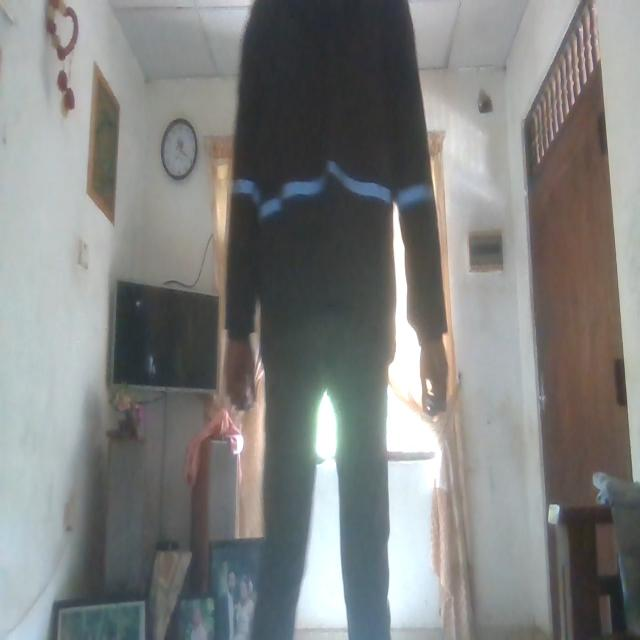Jacket_Wearer: (223, 0, 450, 387)
Person: (219, 0, 445, 640)
